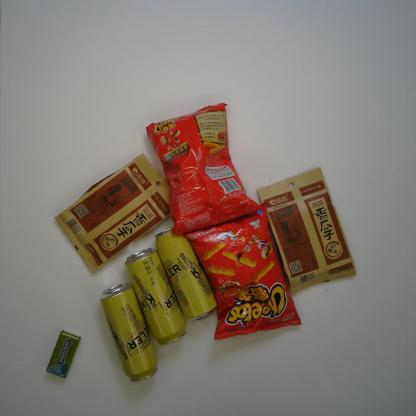Alcohol: (124, 248, 186, 346), (155, 226, 218, 322), (99, 282, 158, 384)
Dried Food: (53, 151, 174, 274), (257, 166, 359, 296)
Gum: (45, 330, 82, 378)
Puffed Food: (182, 201, 304, 341), (144, 102, 258, 235)
